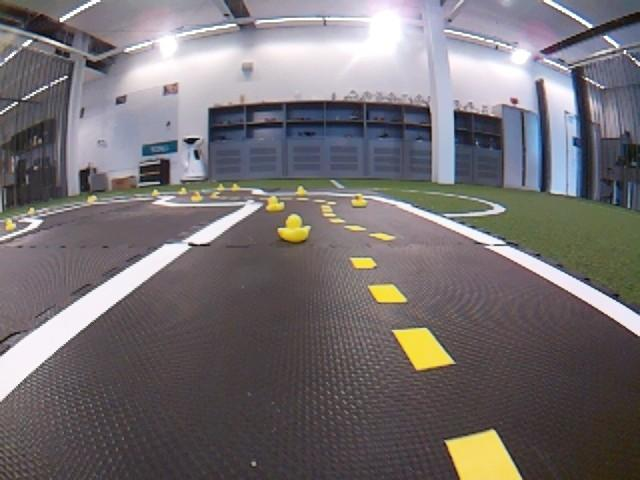Duckies: (277, 213, 312, 243), (266, 196, 285, 211), (351, 195, 367, 207), (295, 185, 307, 195), (5, 220, 17, 230), (191, 193, 203, 201), (230, 183, 241, 191), (178, 188, 187, 195), (27, 208, 35, 214), (217, 184, 225, 190), (88, 196, 96, 202), (151, 191, 159, 196)
